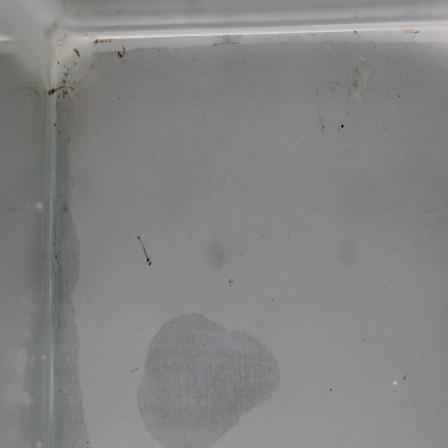Jentik-Nyamuk: (132, 232, 154, 268), (45, 80, 78, 98), (113, 42, 128, 63)
